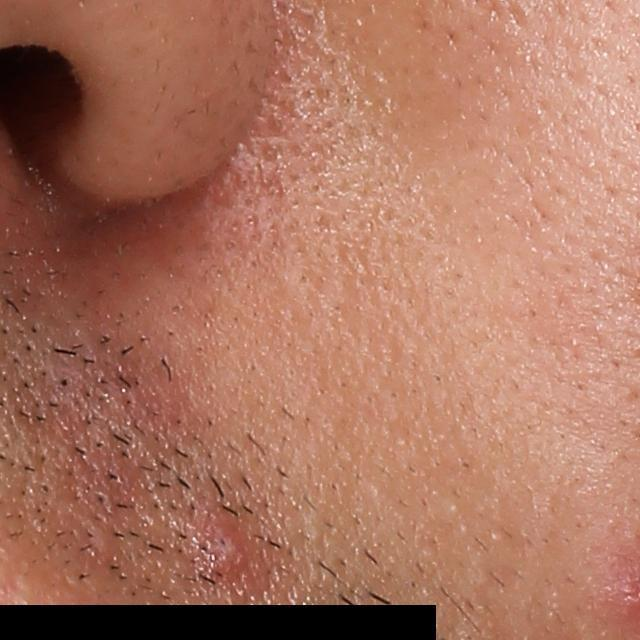papule: (194, 507, 264, 584)
